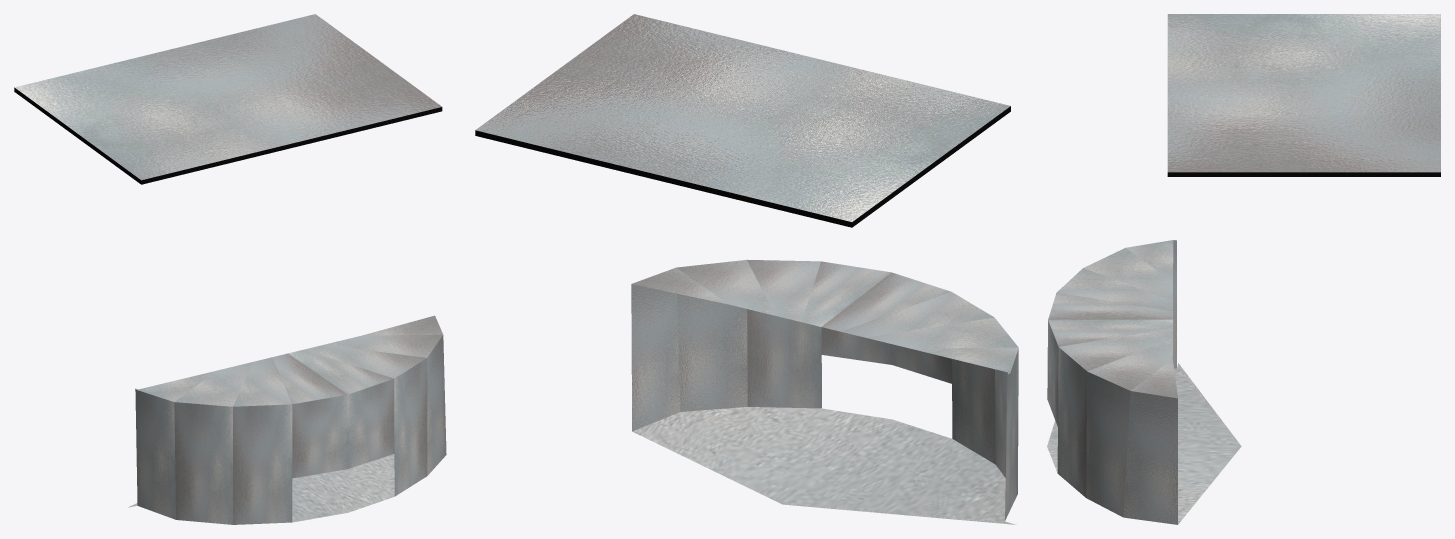
Rendered from techo_entrada.obj.
The picture shows the model from 3 angles, left to right: view 1: azimuth 30°, elevation 25°; view 2: azimuth 150°, elevation 25°; view 3: azimuth 270°, elevation 25°; orthographic projection. The views are drawn at different scales.
Visible parts, largest first — view 1: polySurface315; view 2: polySurface315; view 3: polySurface315.
Part boxes in pixels (x1=…): polySurface315: x1=14, y1=14, x2=446, y2=524; polySurface315: x1=475, y1=14, x2=1018, y2=524; polySurface315: x1=1047, y1=14, x2=1440, y2=524.
Bounding box in the file's own units: 8.41 × 8.52 × 8.58.
Materials: 2 (1 with a texture image).
